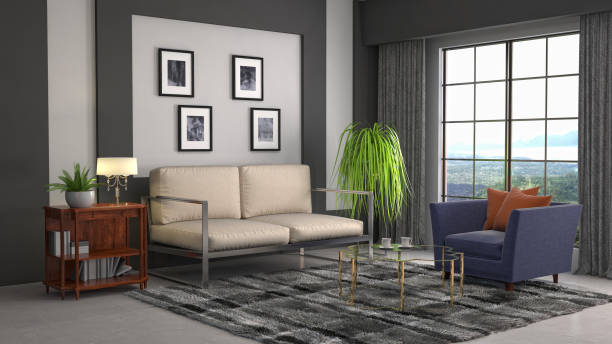chair: (426, 186, 582, 293)
large plant: (342, 121, 411, 231)
small plant: (49, 161, 100, 208)
sofa: (142, 160, 377, 290)
table: (337, 237, 465, 312)
table lamp: (94, 152, 140, 207)
wall art: (156, 44, 195, 98), (175, 104, 215, 152), (229, 52, 265, 101), (247, 105, 282, 153)
